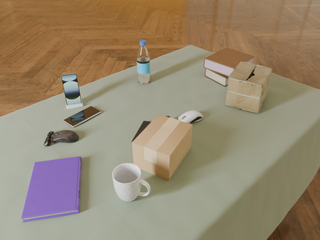book: (21, 157, 81, 222), (204, 48, 254, 76), (205, 69, 228, 87)
bottle: (137, 40, 150, 84)
box: (132, 115, 192, 180), (226, 61, 272, 113)
cup: (112, 163, 150, 202)
mouse: (44, 130, 79, 146), (178, 110, 203, 123)
phone: (64, 106, 101, 127), (61, 73, 82, 105), (132, 121, 151, 142)
